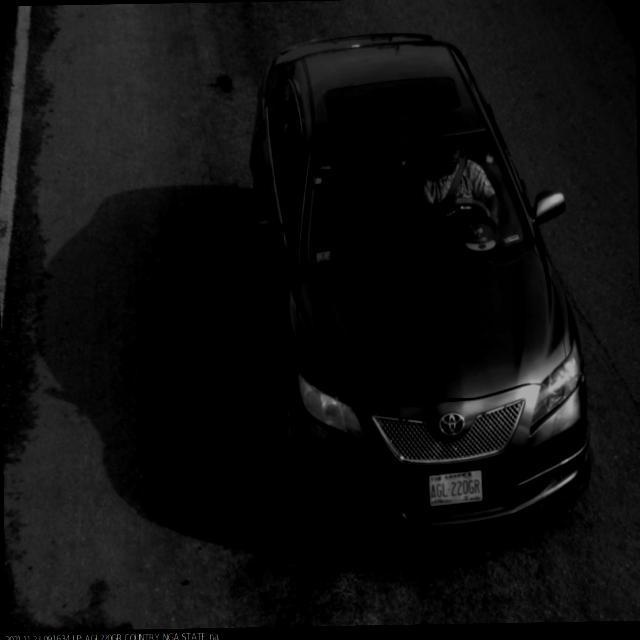windshield: (287, 126, 538, 278)
